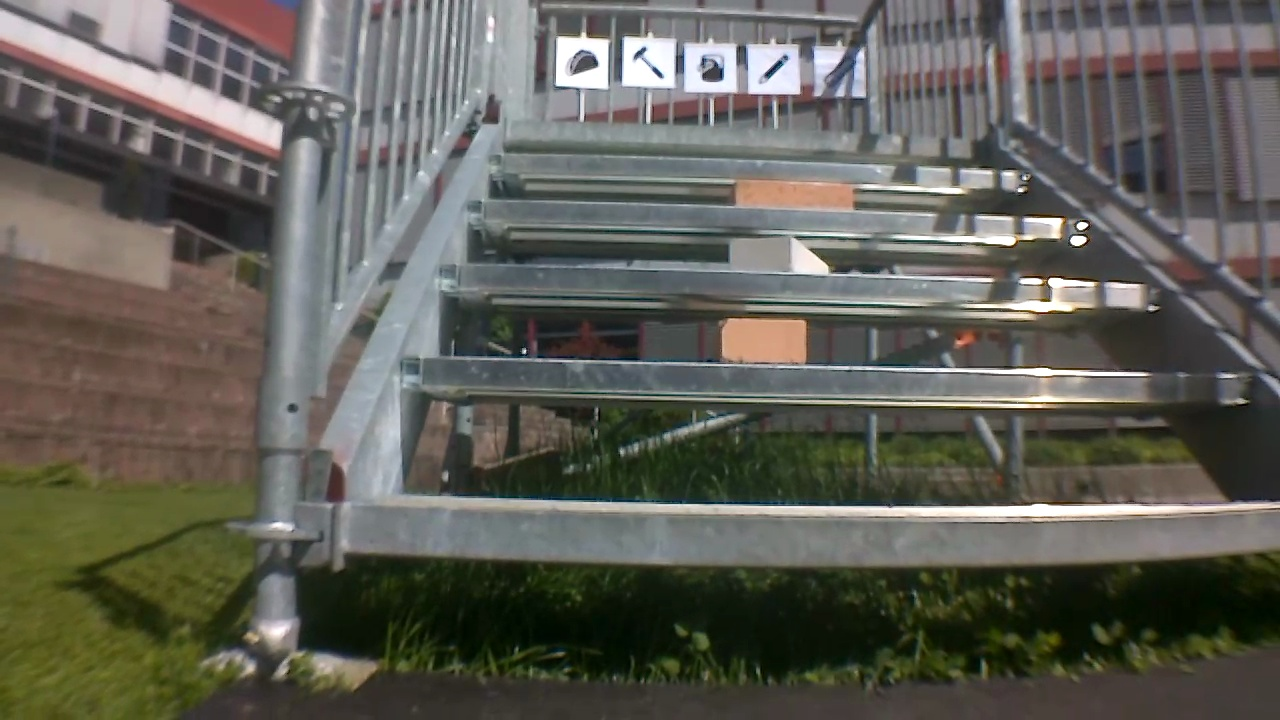brick: (714, 317, 810, 363), (729, 236, 837, 276), (737, 182, 859, 208)
edge: (332, 497, 1280, 555), (396, 352, 1269, 399), (434, 268, 1173, 304), (461, 202, 1099, 229), (482, 151, 1038, 179), (499, 119, 995, 146)
stairs: (245, 0, 1280, 681)
steps: (322, 123, 1280, 562)
